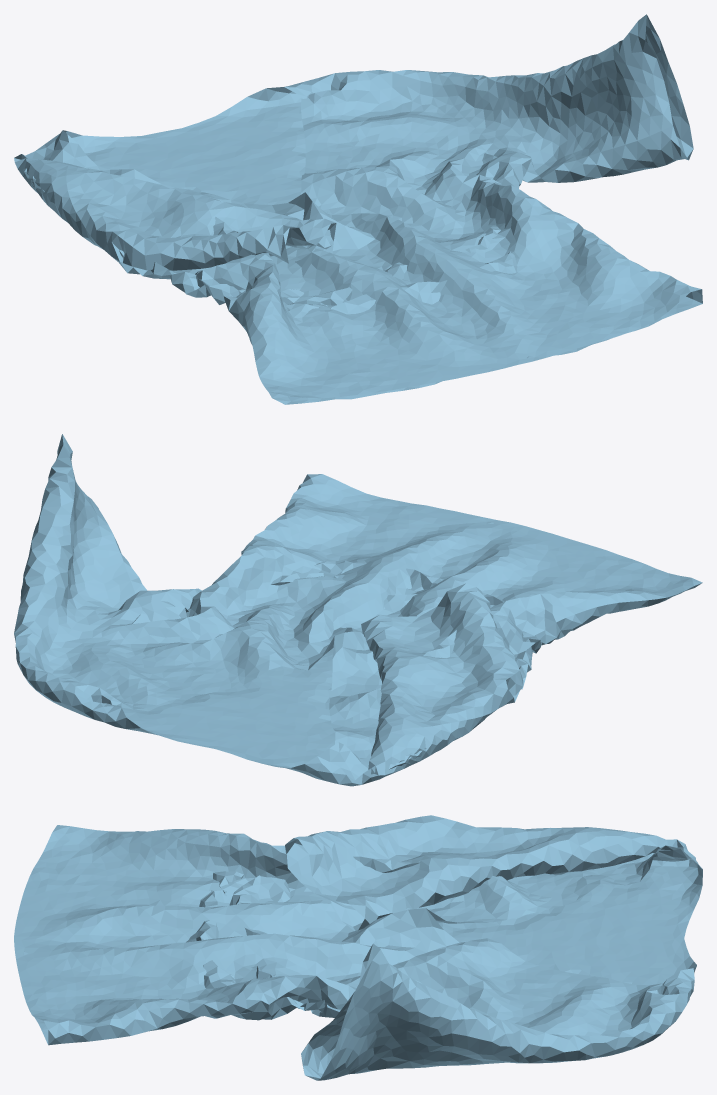
The model's file is frame_06.glb.
The picture shows the model from 3 angles, top to bottom: view 1: azimuth 30°, elevation 25°; view 2: azimuth 150°, elevation 25°; view 3: azimuth 270°, elevation 25°; orthographic projection. The views are drawn at different scales.
Parts seen in each view (by area): view 1: frame_06.obj; view 2: frame_06.obj; view 3: frame_06.obj.
Part boxes in pixels (<box>): frame_06.obj: <box>14,14,702,404</box>; frame_06.obj: <box>14,434,702,786</box>; frame_06.obj: <box>14,815,702,1080</box>.
Size of the model in its own units: 1.5 by 0.4043 by 1.58.
